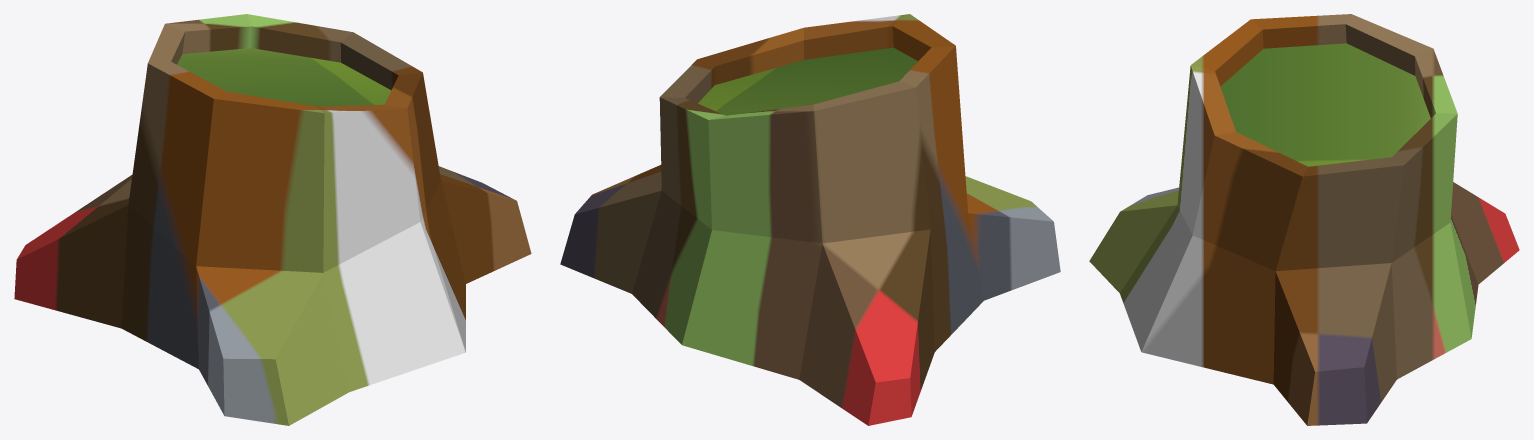
Rendered from Stump_04.fbx.
The picture shows the model from 3 angles, left to right: view 1: azimuth 30°, elevation 25°; view 2: azimuth 150°, elevation 25°; view 3: azimuth 270°, elevation 25°; orthographic projection. The views are drawn at different scales.
Parts seen in each view (by area): view 1: Stump_04; view 2: Stump_04; view 3: Stump_04.
Boxes of the visible parts, bbox=[...] form: Stump_04: bbox=[14, 14, 531, 425]; Stump_04: bbox=[560, 14, 1060, 425]; Stump_04: bbox=[1089, 14, 1519, 425].
Size of the model in its own units: 1.65 by 1.01 by 1.54.
